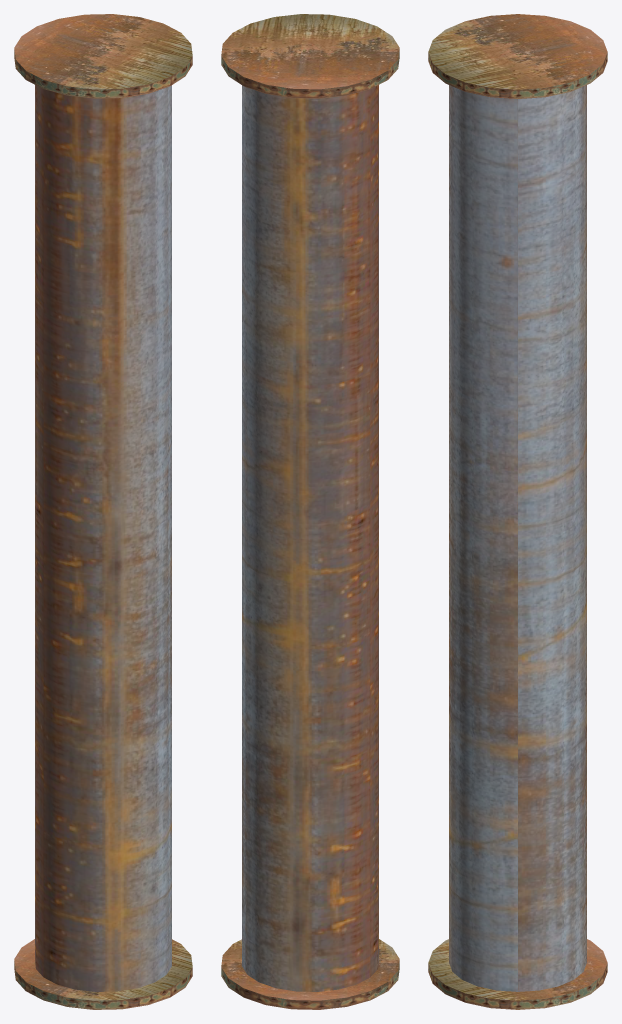
The model's file is pipe_04.fbx.
The picture shows the model from 3 angles, left to right: view 1: azimuth 30°, elevation 25°; view 2: azimuth 150°, elevation 25°; view 3: azimuth 270°, elevation 25°; orthographic projection.
Visible parts, largest first — view 1: pipe_04; view 2: pipe_04; view 3: pipe_04.
Part boxes in pixels (x1,y1,x2,y2): pipe_04: [14, 14, 192, 1009]; pipe_04: [221, 14, 399, 1009]; pipe_04: [428, 14, 607, 1009].
Size of the model in its own units: 0.5876 by 3.33 by 0.5876.
